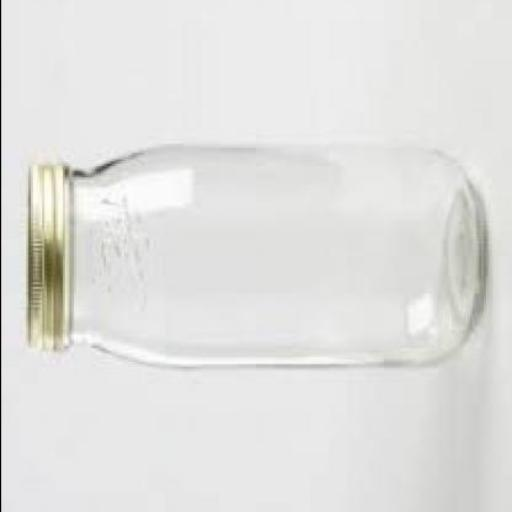glass: (56, 146, 482, 371)
metal: (22, 168, 60, 353)
